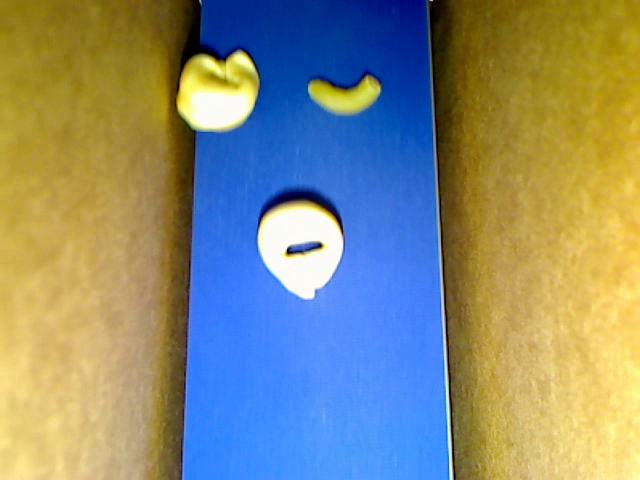elbow: (309, 73, 383, 116)
tortellini: (257, 200, 343, 300), (176, 48, 262, 133)
